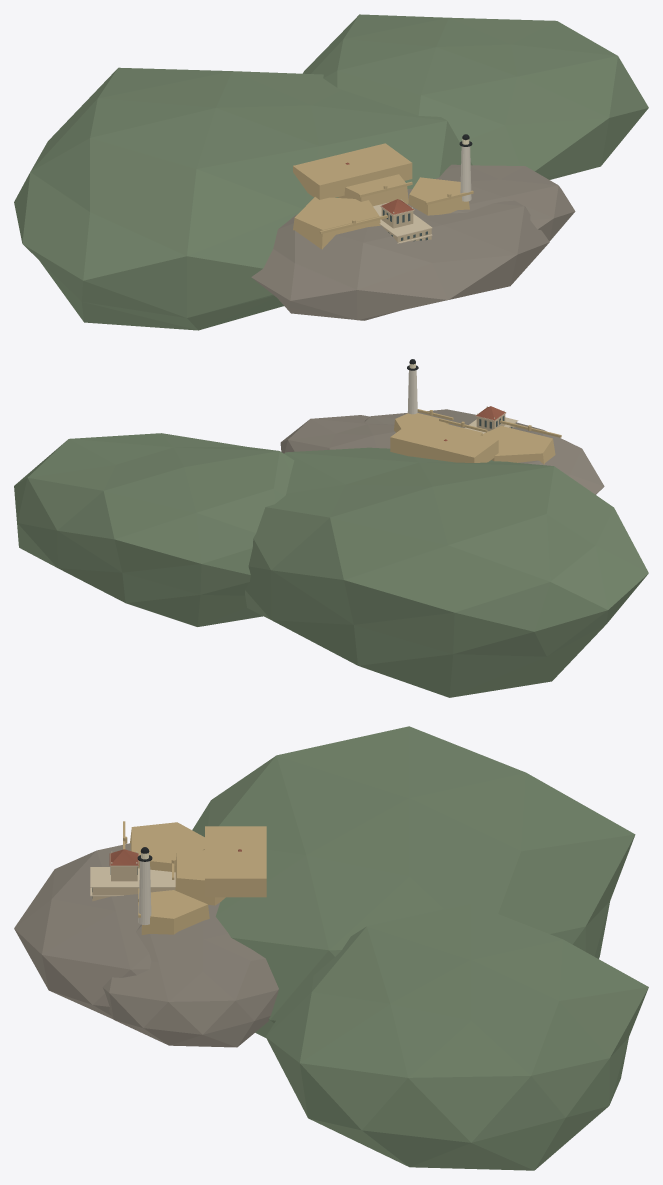
The model's file is havana-source-models.glb.
The picture shows the model from 3 angles, top to bottom: view 1: azimuth 30°, elevation 25°; view 2: azimuth 150°, elevation 25°; view 3: azimuth 270°, elevation 25°; orthographic projection. The views are drawn at different scales.
Parts seen in each view (by area): view 1: ElMorro, HotelNacional; view 2: ElMorro, HotelNacional; view 3: ElMorro, HotelNacional.
Boxes of the visible parts, bbox=[...] form: ElMorro: bbox=[14, 14, 648, 330]; HotelNacional: bbox=[345, 162, 432, 243]; ElMorro: bbox=[14, 359, 648, 697]; HotelNacional: bbox=[444, 406, 518, 441]; ElMorro: bbox=[14, 726, 648, 1170]; HotelNacional: bbox=[90, 849, 241, 901].
Bounding box in the file's own units: 407 × 132 × 308.
